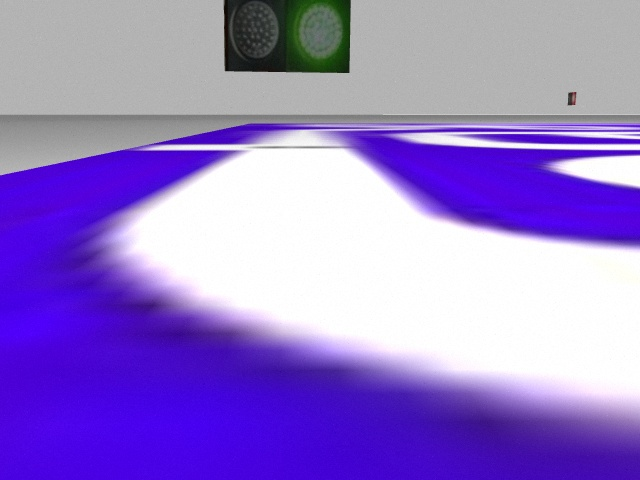green: (288, 3, 349, 72)
